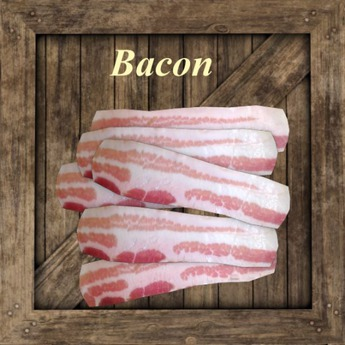bacon: (58, 105, 302, 301)
